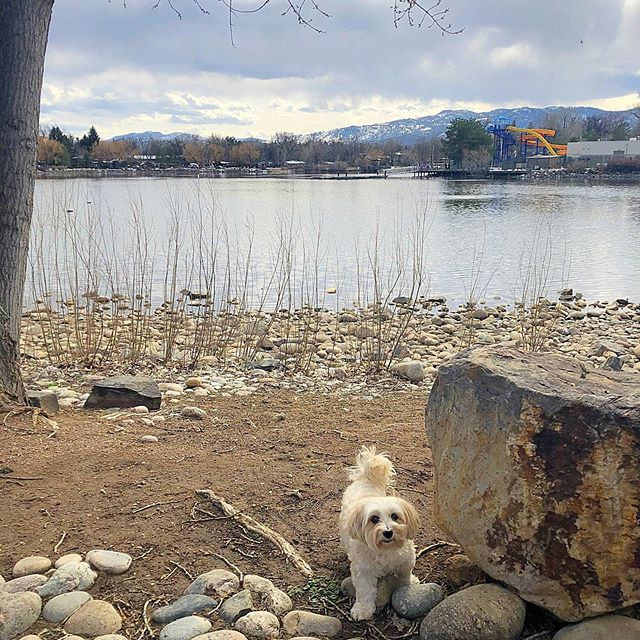animal: (332, 444, 428, 619)
river: (29, 180, 638, 294)
rocks: (28, 285, 640, 397), (1, 548, 321, 640)
sky: (47, 1, 640, 117)
vegetation: (46, 120, 497, 172)
